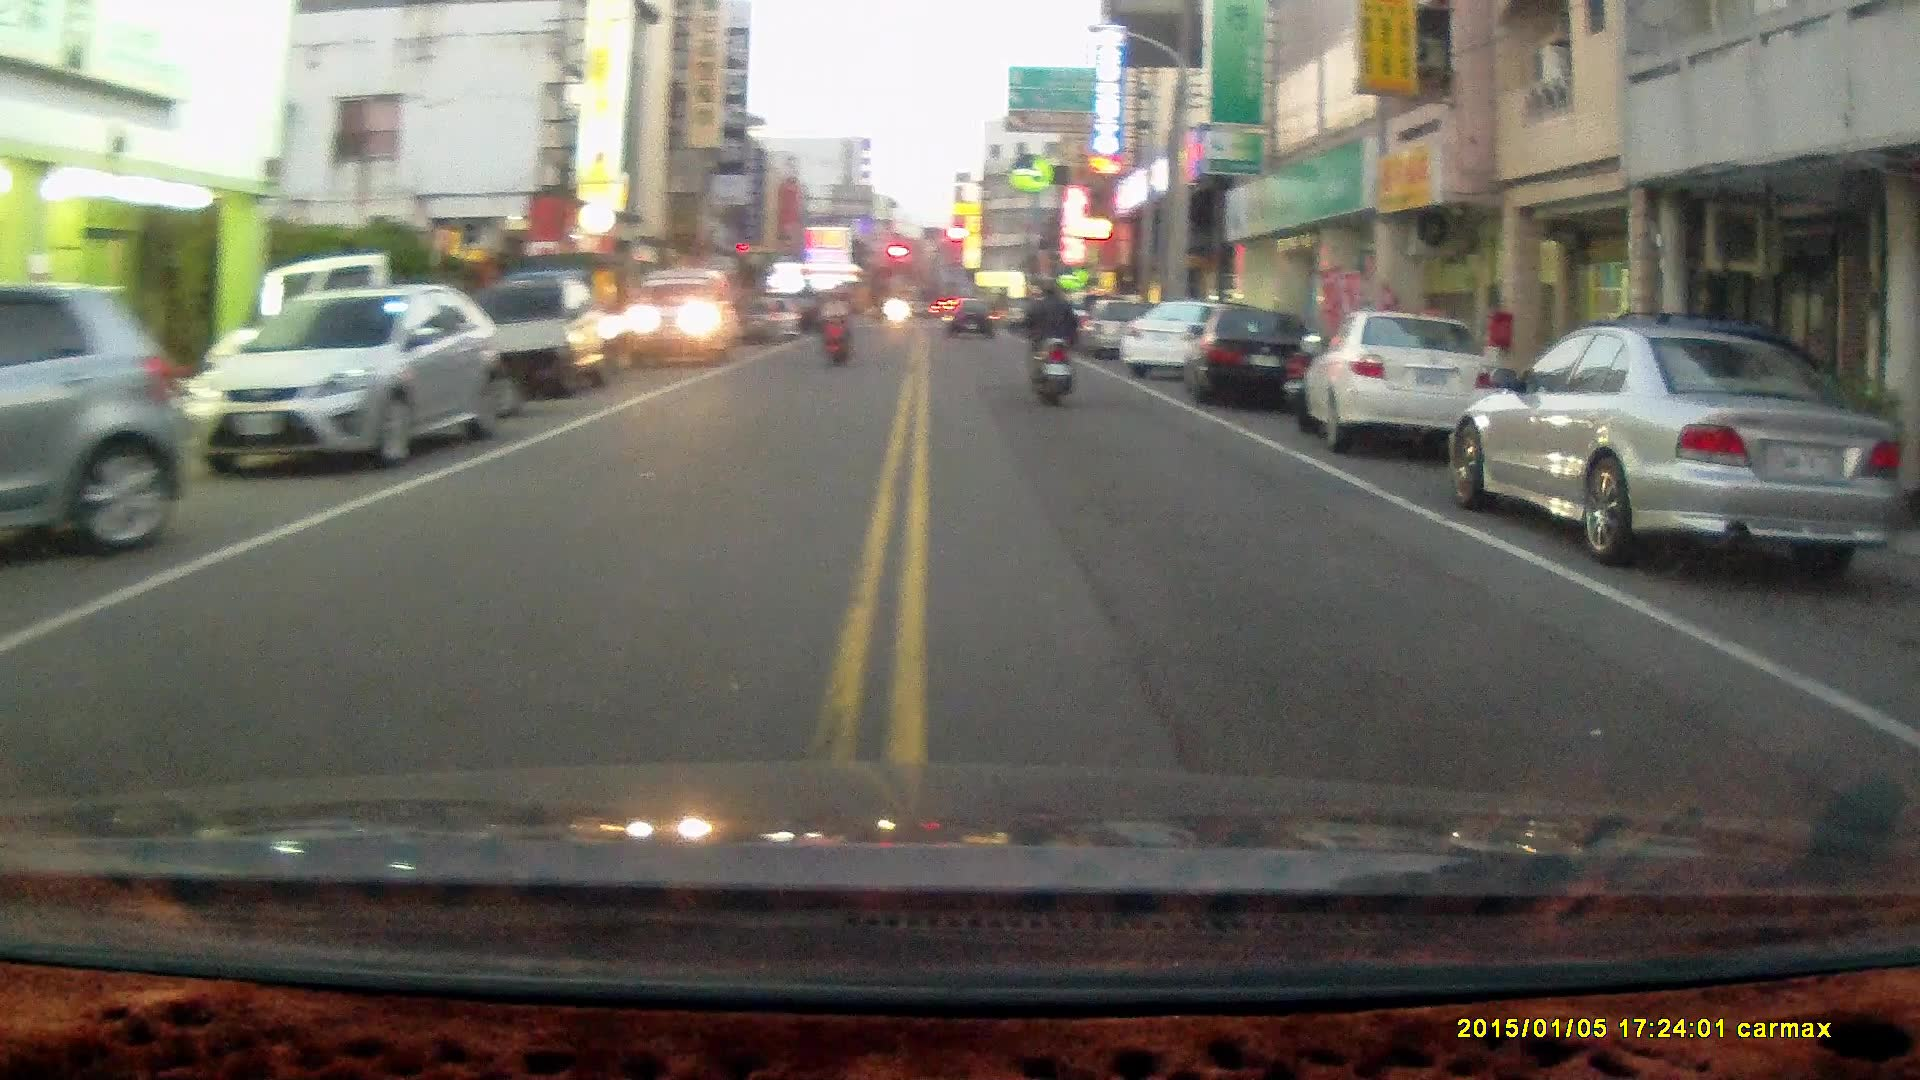rider: (1017, 274, 1074, 408), (819, 284, 854, 367)
vehicle: (1454, 322, 1901, 575), (189, 281, 499, 470), (1, 281, 190, 566), (1299, 310, 1514, 454), (465, 270, 610, 402), (1192, 301, 1321, 411), (623, 266, 738, 369), (1119, 299, 1255, 381)
